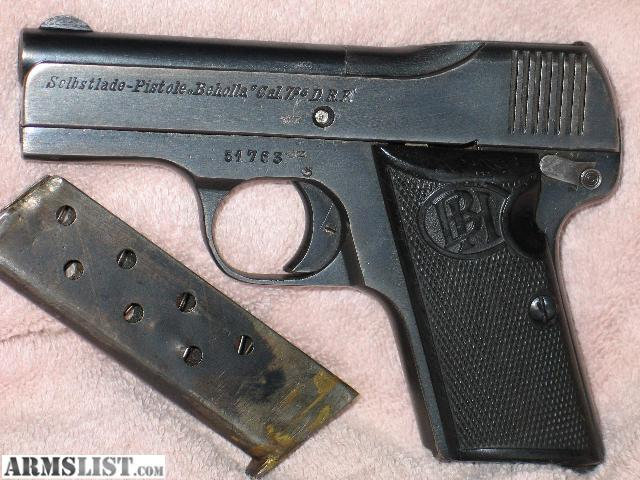gun: (17, 12, 631, 474)
